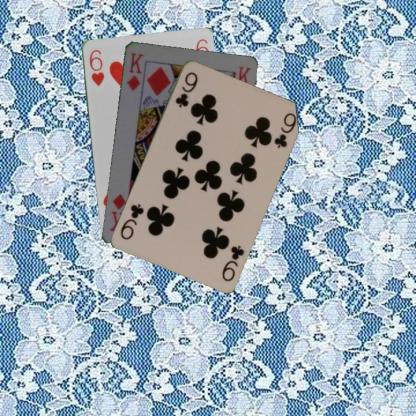6h: (86, 46, 105, 87)
9c: (219, 242, 246, 283), (172, 68, 199, 108)
Kd: (124, 50, 145, 92)
